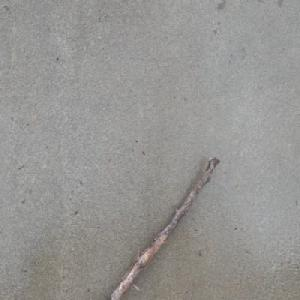Wood: (105, 155, 221, 300)
